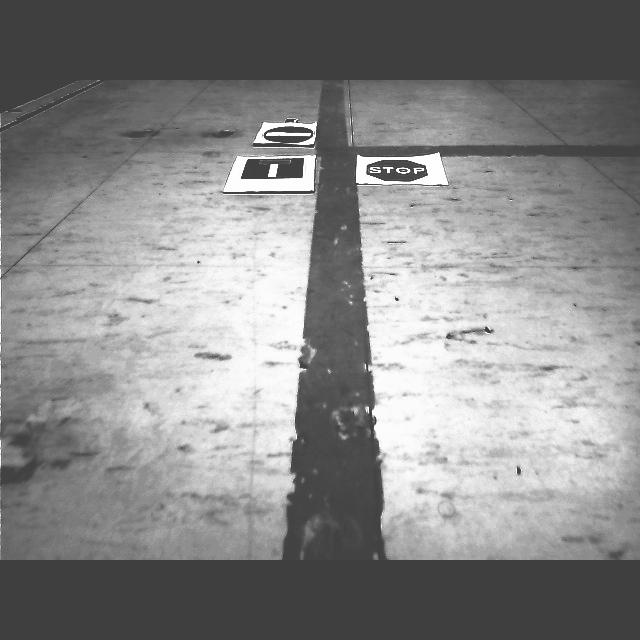DEAD END: (240, 157, 305, 179)
NO ENTRY: (263, 126, 313, 143)
STOP: (366, 159, 427, 181)
